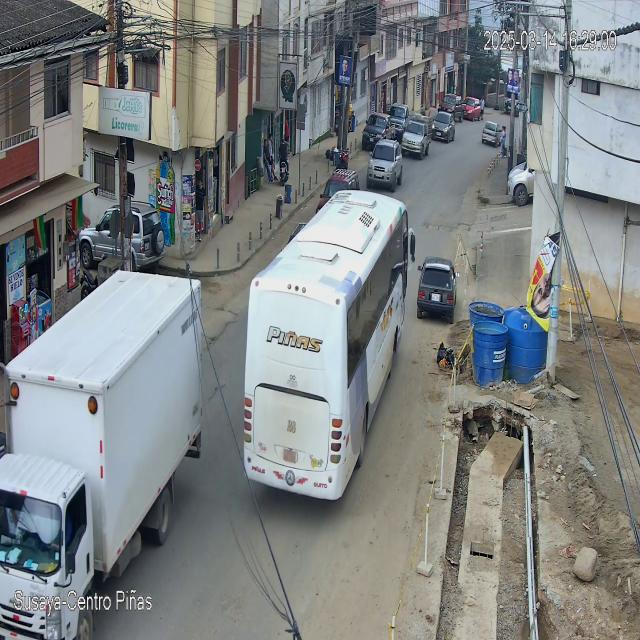BUS: (242, 191, 408, 502)
TRUCK: (0, 272, 204, 640)
